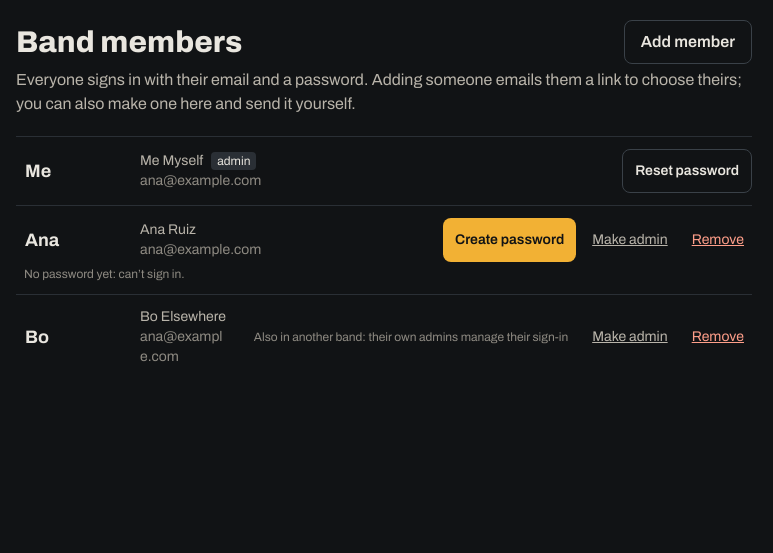
Members › adds someone and says what happened ({"invited":true})
Click the button "Add member": (688, 42) [624,20,752,64]
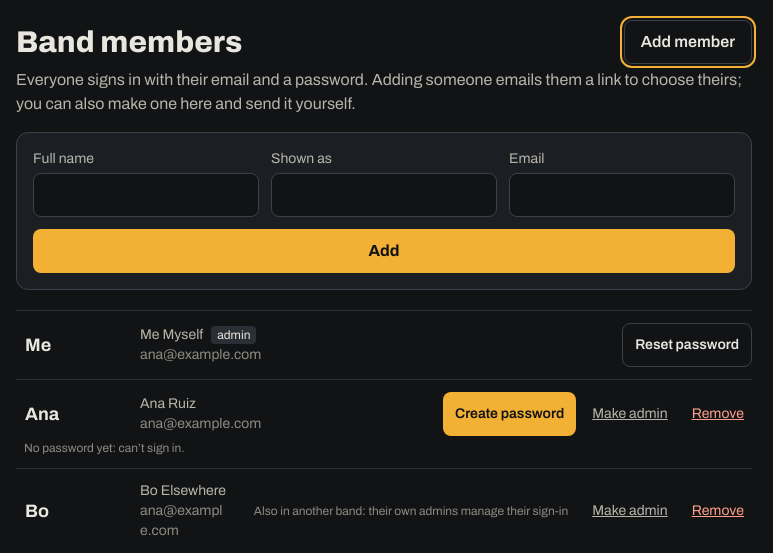
In the field labelled "Full name": (146, 195) [33,173,259,217], type "Cy Young"
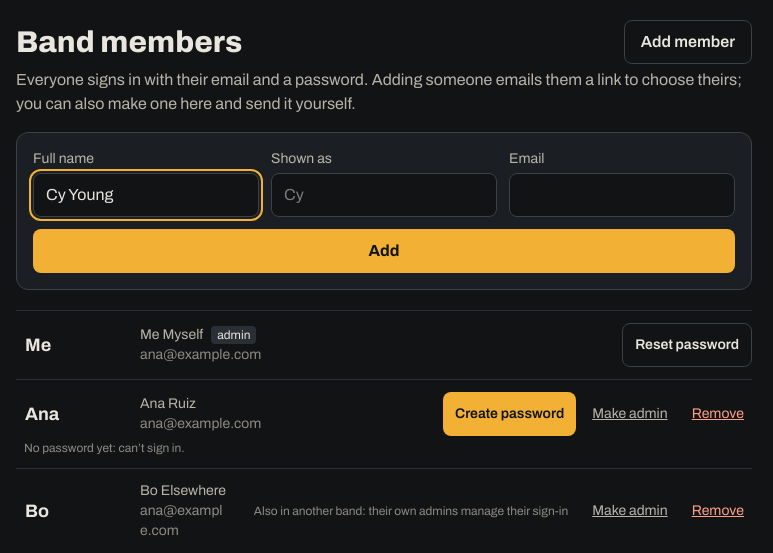
In the field labelled "Email": (622, 195) [509,173,735,217], type "cy@example.com"
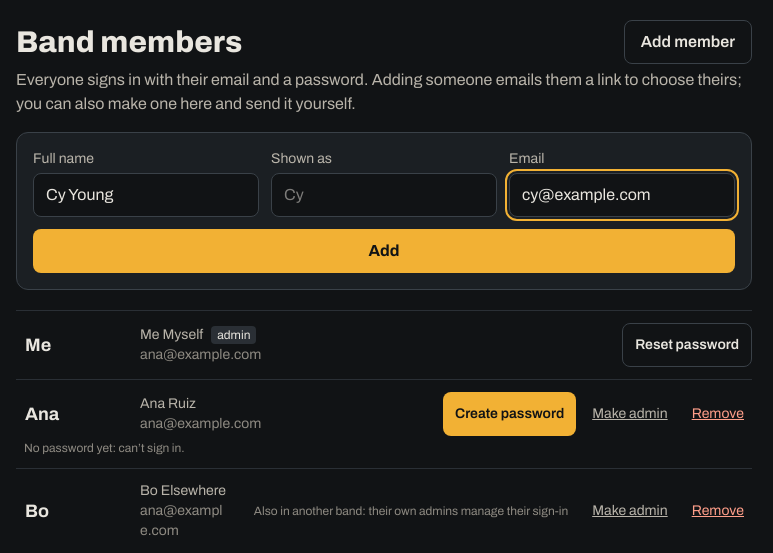
Click the button "Add": (384, 251) [33,229,735,273]
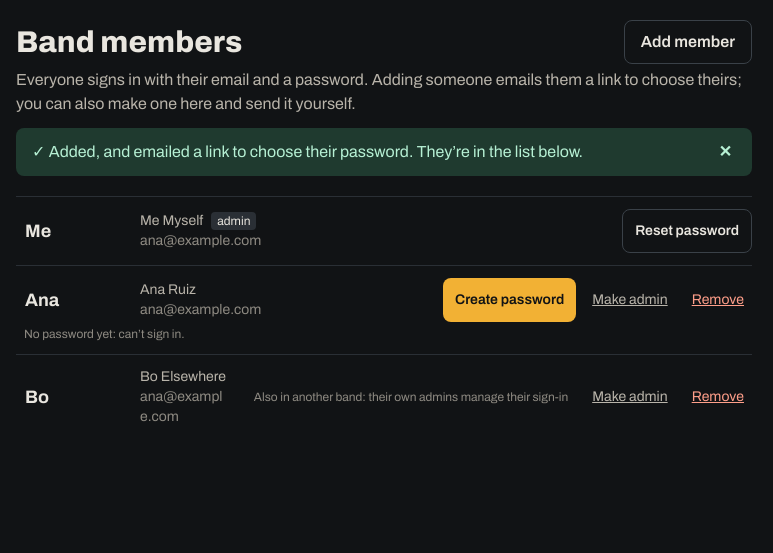
Check: the message shows "emailed a link", box [32,143,583,160]
Click the button named "Dismiss": (725, 152) [715,136,736,168]
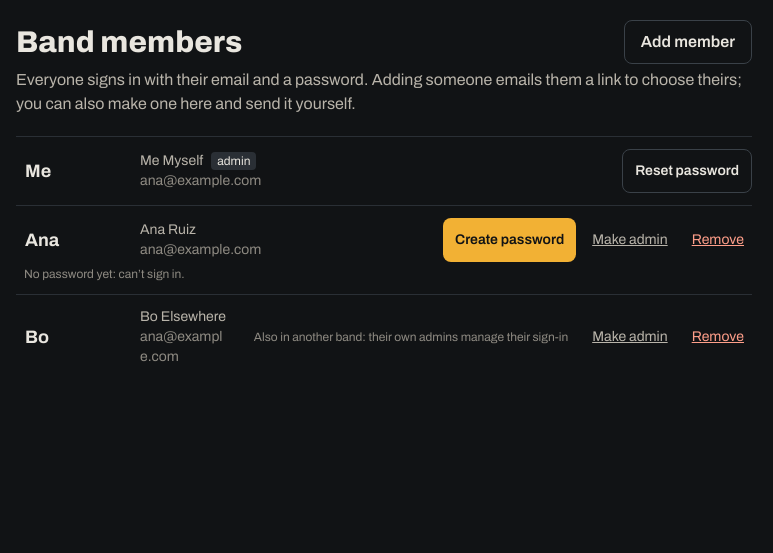
Check: the message is gone
